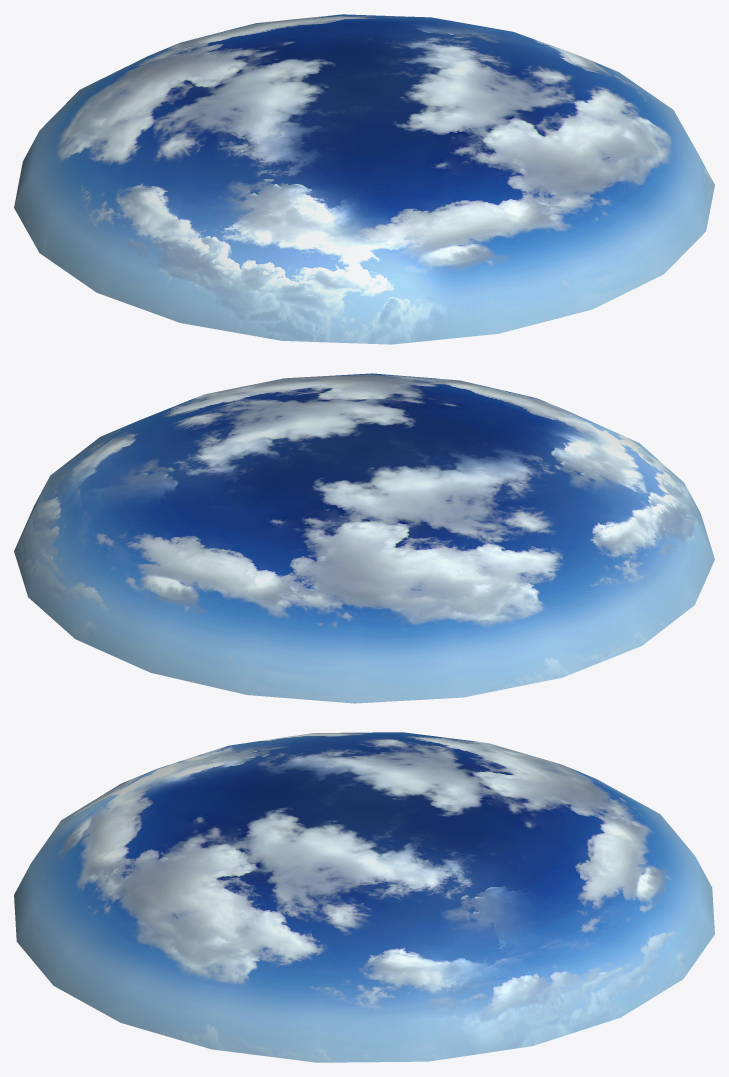
Rendered from Sky.FBX.
The picture shows the model from 3 angles, top to bottom: view 1: azimuth 30°, elevation 25°; view 2: azimuth 150°, elevation 25°; view 3: azimuth 270°, elevation 25°; orthographic projection.
Visible parts, largest first — view 1: Hangar_Sky; view 2: Hangar_Sky; view 3: Hangar_Sky.
Part boxes in pixels (x1=…): Hangar_Sky: x1=14, y1=14, x2=714, y2=344; Hangar_Sky: x1=14, y1=373, x2=714, y2=703; Hangar_Sky: x1=14, y1=732, x2=714, y2=1062.
Size of the model in its own units: 7402 by 1242 by 7402.
